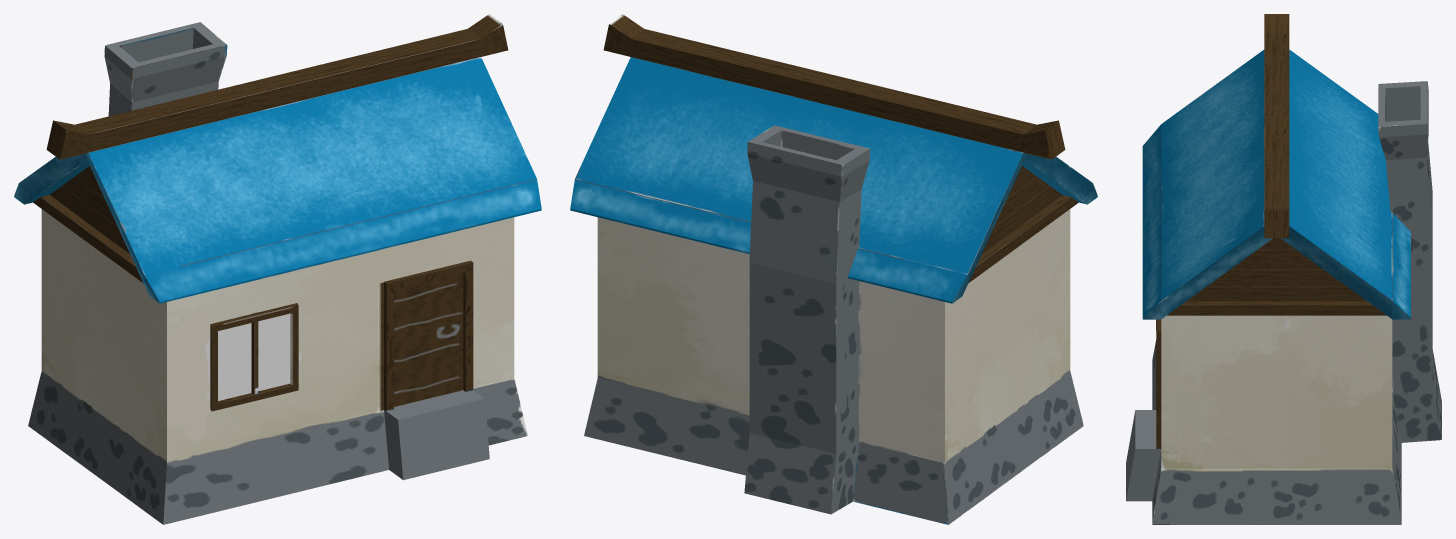
File: 22T3_GAD174.3_HandPaintedHouse.fbx
3 renders of one model, left to right at view 1: azimuth 30°, elevation 25°; view 2: azimuth 150°, elevation 25°; view 3: azimuth 270°, elevation 25°, orthographic. The views are drawn at different scales.
Visible parts, largest first — view 1: Cube; view 2: Cube; view 3: Cube.
Part boxes in pixels (box(x1,y1,x2,y2)): Cube: box(14, 14, 541, 524); Cube: box(570, 14, 1097, 524); Cube: box(1126, 14, 1441, 524).
Bounding box in the file's own units: 1033 × 790 × 683.
